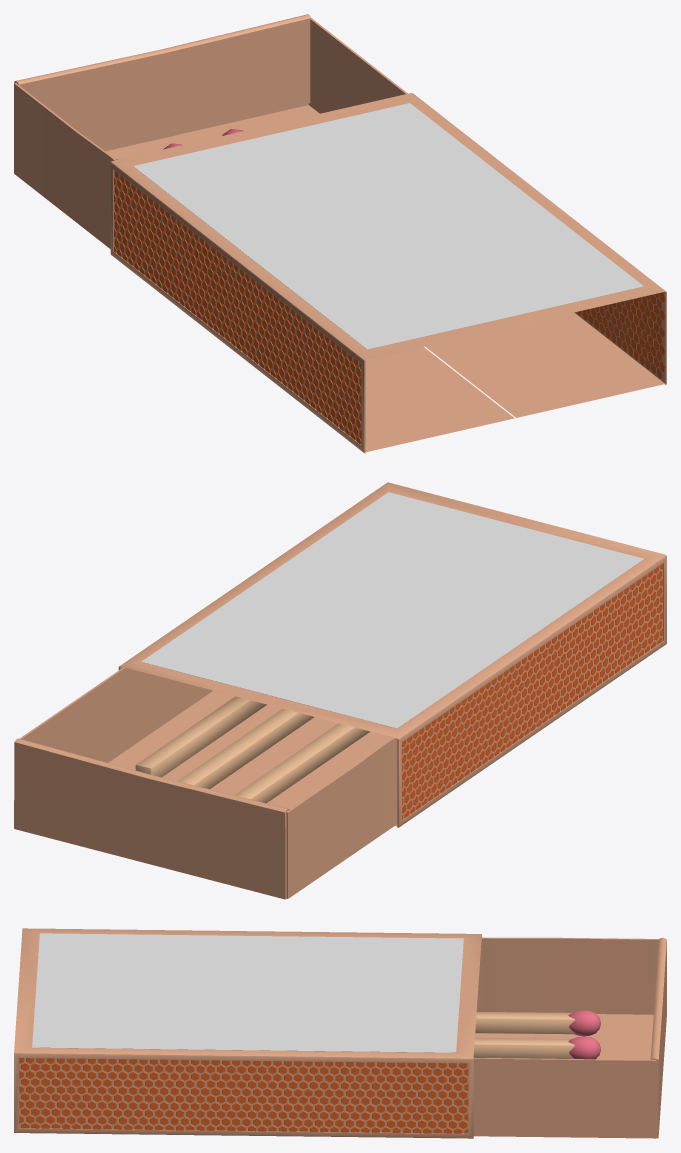
The model's file is matchbox_7.fbx.
3 renders of one model, top to bottom at view 1: azimuth 30°, elevation 25°; view 2: azimuth 150°, elevation 25°; view 3: azimuth 270°, elevation 25°, orthographic. The views are drawn at different scales.
Parts seen in each view (by area): view 1: Cube, Cube.001; view 2: Cube, Cube.001, Cube.002, Cube.007, Cube.003; view 3: Cube, Cube.001, Cube.006, Cube.003.
Boxes of the visible parts, x1,y1,x2,y2 form: Cube: (110,93,666,453); Cube.001: (14,14,407,248); Cube: (118,482,666,827); Cube.001: (14,667,397,899); Cube.002: (178,708,314,789); Cube.007: (135,696,266,777); Cube.003: (234,723,370,803); Cube: (14,928,481,1138); Cube.001: (473,937,666,1138); Cube.006: (475,1010,600,1036); Cube.003: (473,1036,600,1059).
Bounding box in the file's own units: 16.05 × 4.61 × 33.64.
